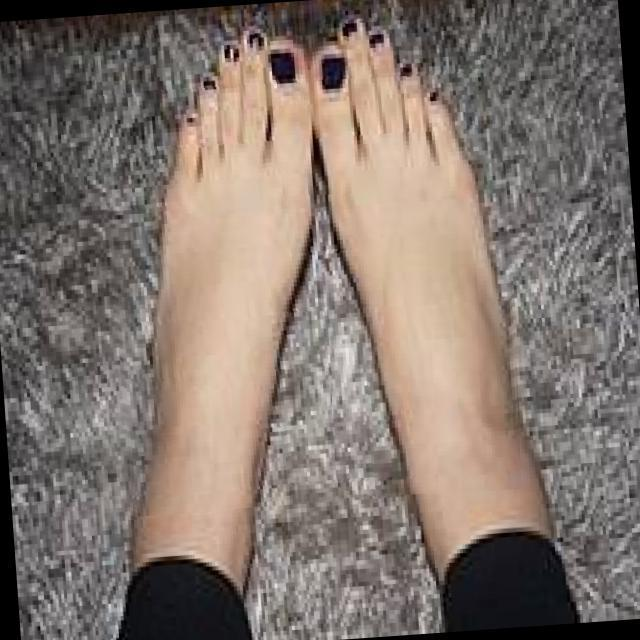No_Shoes: (111, 9, 307, 566), (316, 0, 480, 546)
